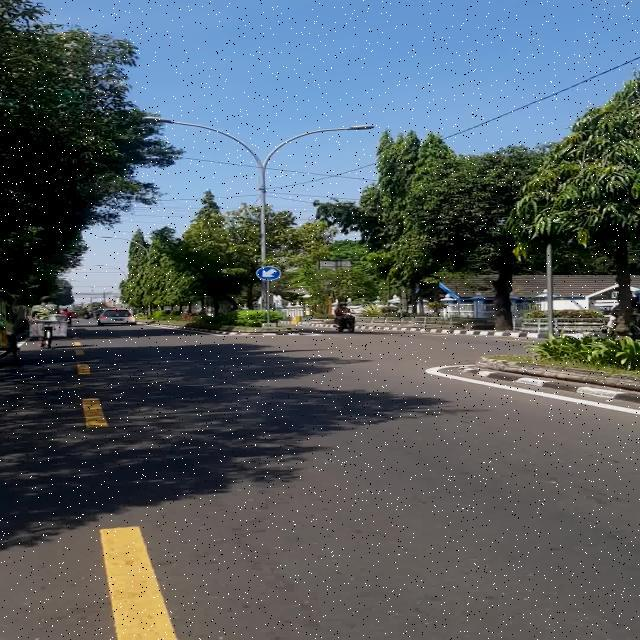Lajur Kiri: (256, 266, 281, 280)
